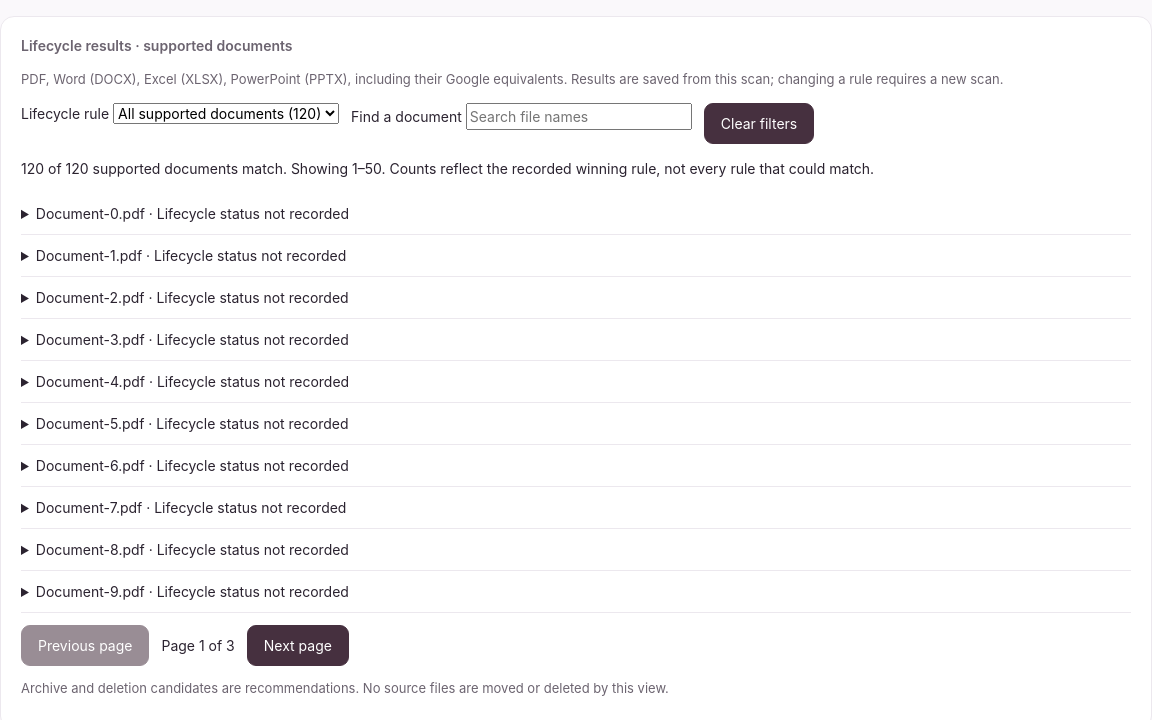
Test: bounds the rendered metadata rows while keeping the full search population
The image size is (1152, 720).
Click the button "Next page".
click(298, 645)  # box [247,624,349,666]
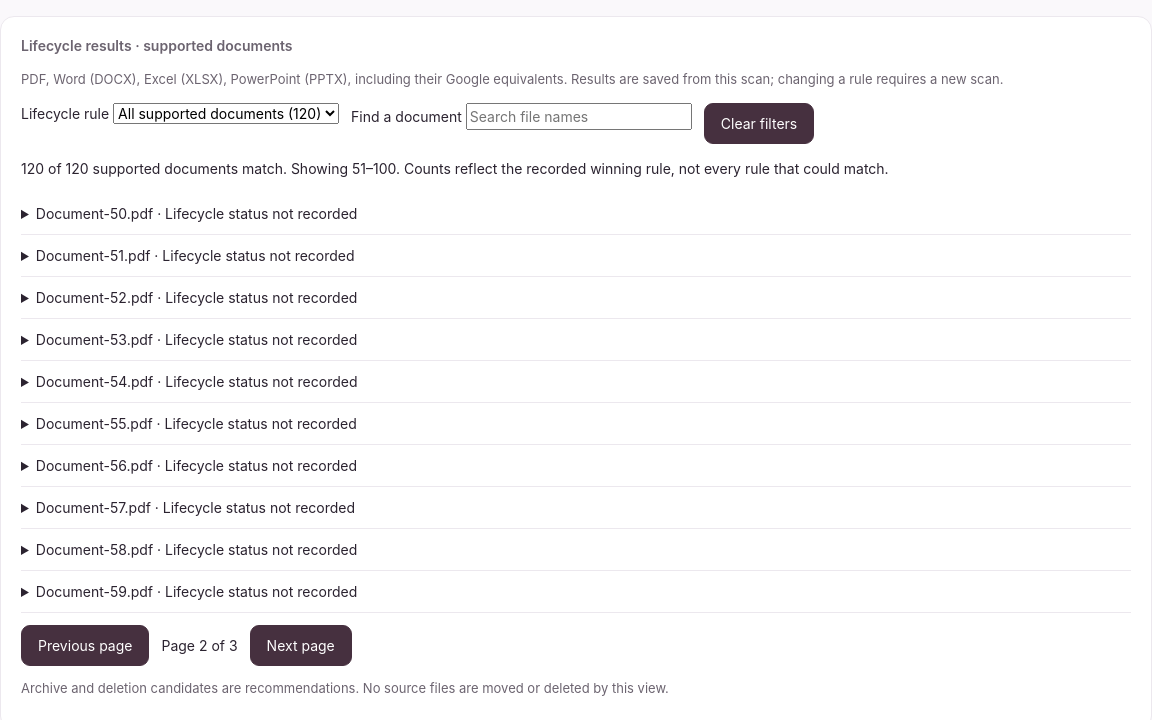
Check: the text "Page 2 of 3" is shown, box [162,634,238,656]
